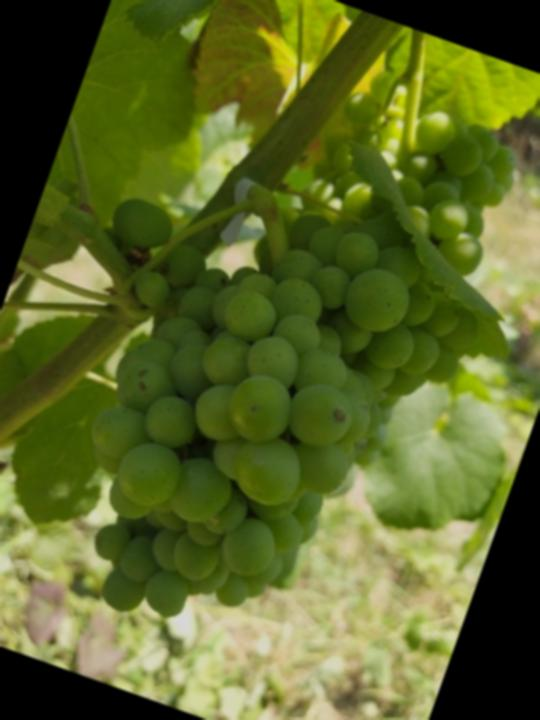grape: (0, 129, 503, 693)
